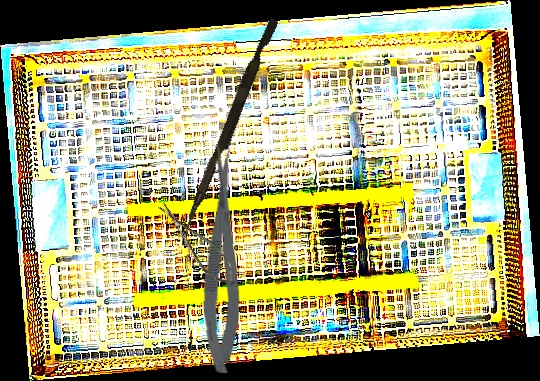Micro Scissor: (201, 143, 246, 374), (152, 194, 242, 292)
Pusher: (182, 15, 279, 236)
